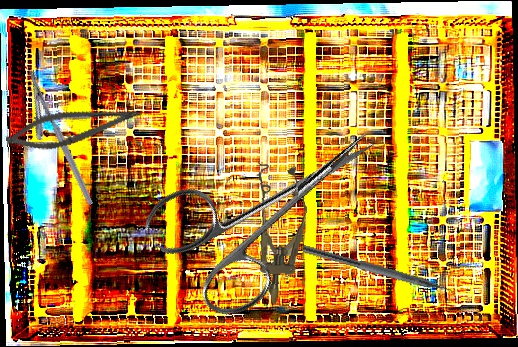Chopper: (299, 244, 464, 307)
Iris Scissors: (137, 79, 410, 331)
Micro Scissor: (2, 90, 146, 162)
Needle Holder: (10, 68, 94, 214)
Speculum: (248, 162, 310, 306)
